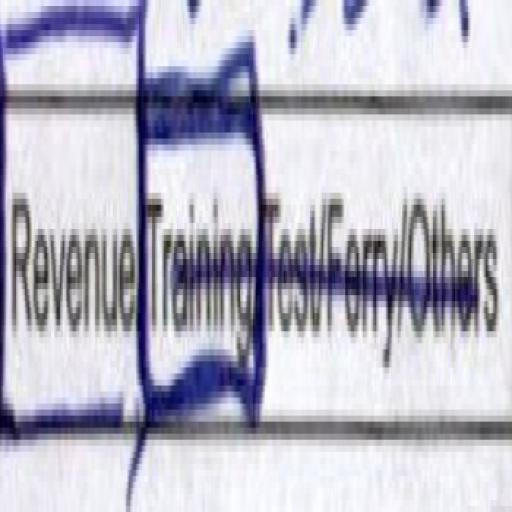check: (0, 0, 135, 494), (140, 0, 258, 506)
